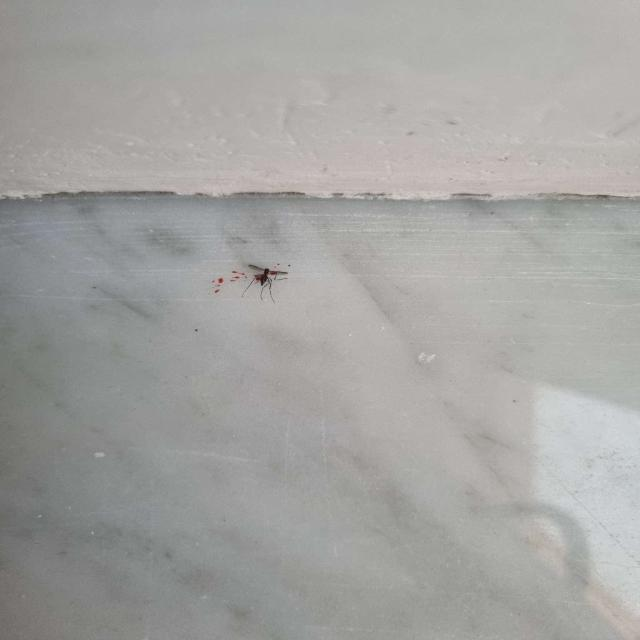albopictus: (223, 255, 296, 305)
